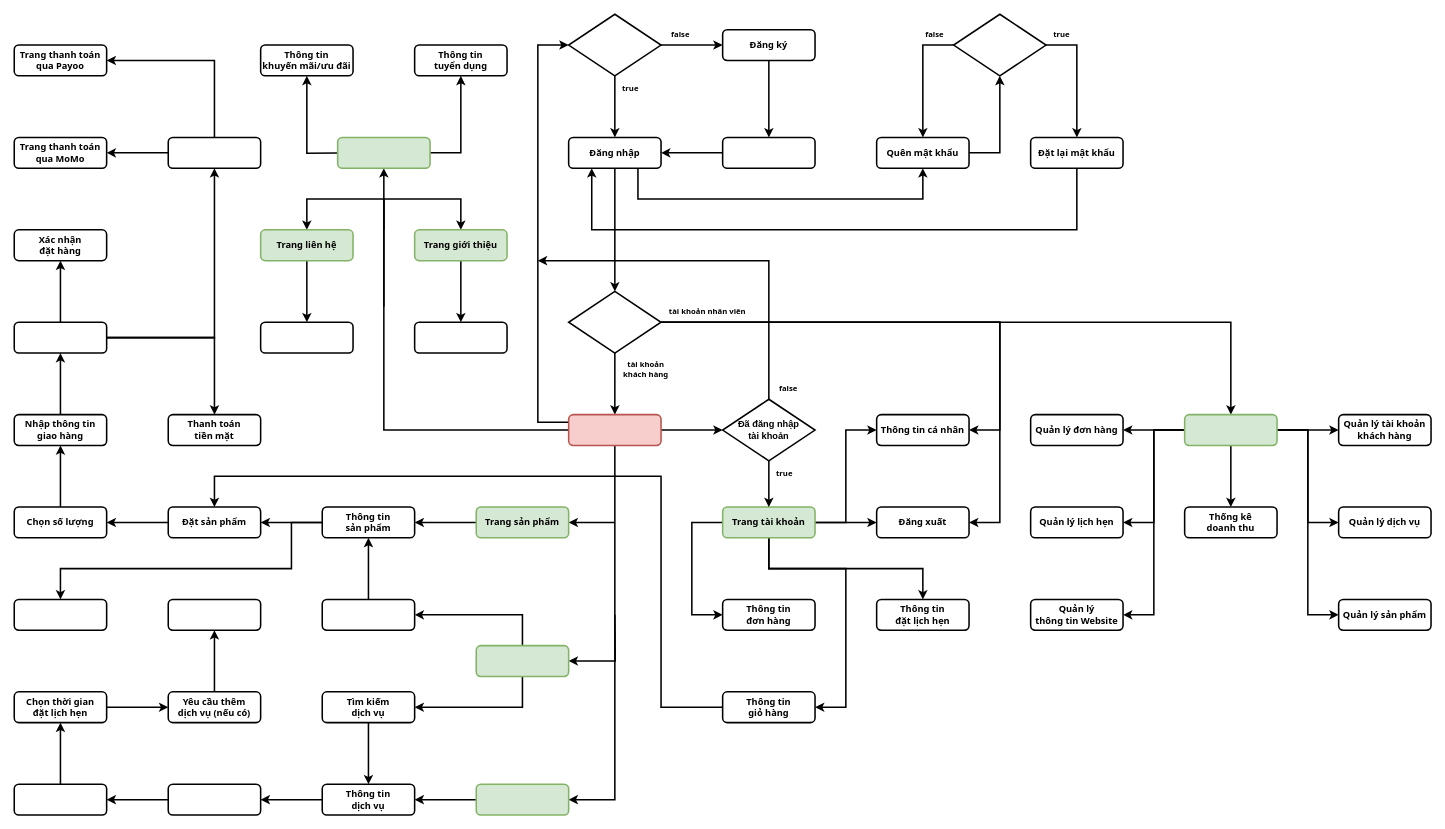
Image size: 1445x829. Some labels were removed from this diagram. The shapes that lost their labels are listed below. From the top down, each one's box as (x1, y1, x2, y2) in pixels, then its label:
(567, 13, 661, 76): Đã có tài khoản
(952, 13, 1046, 76): Xác thực danh tính
(167, 136, 261, 169): Thanh toán trực tuyến
(336, 136, 430, 169): Trang tin tức
(721, 136, 815, 169): Xác thực tài khoản
(13, 321, 107, 353): Chọn phương thức thanh toán
(259, 321, 353, 353): Thông tin liên lạc
(413, 321, 507, 353): Thông tin về Website
(567, 290, 661, 353): Phân loại tài khoản
(567, 413, 661, 446): Trang chủ Website
(1183, 413, 1277, 446): Trang quản lý
(13, 598, 107, 631): Thêm sản phẩm vào giỏ hàng
(167, 598, 261, 631): Xác nhận đặt lịch hẹn
(321, 598, 415, 631): Tìm kiếm sản phẩm
(475, 644, 569, 677): Mục tìm kiếm
(13, 783, 107, 815): Nhập thông tin liên lạc
(167, 783, 261, 815): Đặt lịch hẹn sử dụng dịch vụ
(475, 783, 569, 815): Trang dịch vụ
